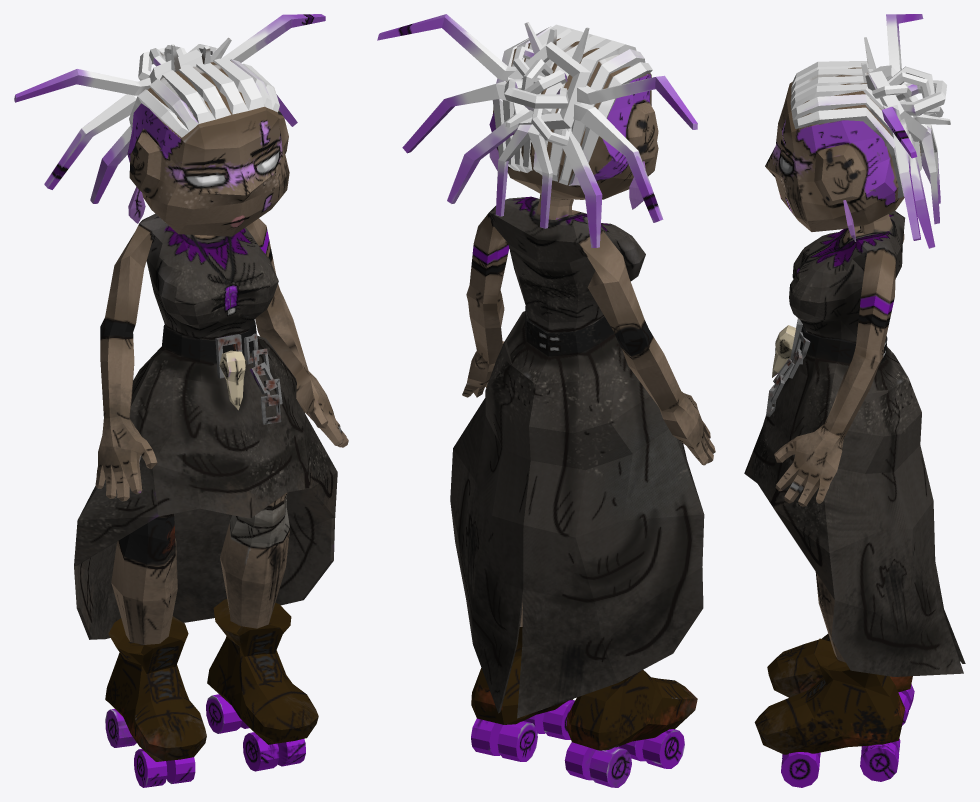
Rendered from bruja_000003.obj.
3 renders of one model, left to right at view 1: azimuth 30°, elevation 25°; view 2: azimuth 150°, elevation 25°; view 3: azimuth 270°, elevation 25°, orthographic. The views are drawn at different scales.
Parts seen in each view (by area): view 1: Bruja_Plane.001; view 2: Bruja_Plane.001; view 3: Bruja_Plane.001.
Boxes of the visible parts, bbox=[...] form: Bruja_Plane.001: bbox=[14, 14, 348, 787]; Bruja_Plane.001: bbox=[377, 14, 715, 787]; Bruja_Plane.001: bbox=[744, 14, 965, 787].
Bounding box in the file's own units: 7.47 × 16.59 × 4.71.
